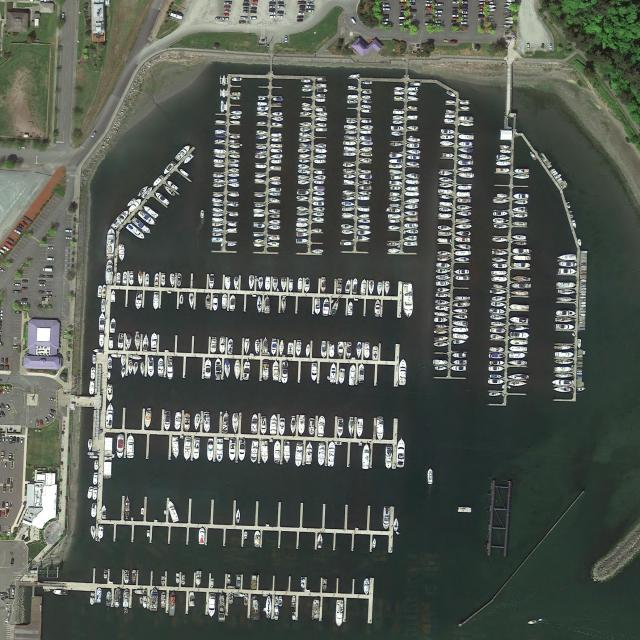large-vehicle: (43, 268, 53, 272)
ship: (110, 209, 131, 231), (125, 223, 147, 243), (131, 217, 153, 236), (549, 167, 567, 190), (402, 282, 413, 319), (137, 210, 158, 228), (174, 143, 192, 162), (166, 500, 180, 523), (106, 228, 116, 260), (396, 437, 406, 468), (141, 204, 159, 219), (538, 151, 553, 169), (154, 191, 171, 206), (335, 599, 344, 627), (398, 358, 407, 386), (361, 443, 370, 470), (218, 592, 226, 622), (375, 416, 385, 440), (105, 403, 114, 429), (327, 441, 336, 467), (149, 588, 159, 611), (105, 260, 114, 285), (128, 198, 143, 213), (162, 161, 177, 176), (251, 595, 260, 620), (208, 593, 217, 618), (126, 434, 135, 459), (183, 436, 192, 461), (382, 506, 391, 530), (116, 434, 125, 458), (250, 439, 259, 463), (103, 456, 112, 480), (330, 298, 341, 317), (168, 591, 176, 617), (305, 442, 314, 465), (221, 410, 230, 433), (228, 438, 237, 461), (166, 356, 174, 381), (295, 442, 303, 467), (260, 439, 268, 464), (216, 437, 224, 462), (317, 415, 326, 437), (273, 440, 281, 464), (318, 442, 326, 466), (385, 444, 393, 468), (172, 435, 180, 459), (311, 598, 320, 619), (281, 361, 289, 384), (283, 440, 291, 463), (238, 438, 246, 461), (141, 185, 154, 199), (162, 184, 176, 197), (214, 358, 222, 380), (203, 411, 211, 433), (124, 495, 131, 520), (104, 437, 113, 456), (151, 175, 164, 188), (135, 290, 143, 311), (243, 359, 251, 380), (204, 358, 212, 379), (356, 417, 364, 438), (207, 438, 214, 462), (193, 437, 200, 460), (298, 415, 306, 435), (183, 412, 191, 432), (349, 364, 356, 386), (265, 596, 272, 618), (348, 416, 355, 438), (232, 412, 239, 434), (322, 297, 330, 316), (308, 418, 316, 437), (262, 360, 269, 381), (147, 356, 154, 377), (234, 359, 241, 380), (272, 360, 279, 381), (337, 417, 344, 438), (270, 414, 277, 435), (510, 316, 528, 324), (183, 153, 195, 165), (193, 413, 201, 431), (166, 180, 179, 191), (551, 379, 571, 386), (145, 409, 152, 429), (251, 414, 258, 434), (164, 411, 171, 431), (86, 485, 95, 500), (151, 332, 158, 351), (99, 312, 106, 331), (311, 362, 318, 381), (118, 243, 125, 262), (260, 416, 267, 435), (175, 412, 182, 431), (114, 589, 121, 608), (138, 184, 149, 196), (507, 360, 528, 366), (510, 339, 528, 346), (509, 304, 530, 310), (511, 276, 532, 282), (374, 299, 381, 317), (314, 297, 321, 315), (134, 333, 141, 351), (219, 336, 226, 354), (356, 341, 363, 359), (264, 296, 271, 314), (195, 570, 202, 588), (279, 418, 286, 436), (358, 363, 365, 381), (510, 332, 530, 338), (510, 325, 530, 331), (512, 283, 532, 289), (556, 282, 576, 288), (555, 317, 575, 323), (262, 336, 268, 356), (224, 359, 230, 379), (153, 292, 159, 312), (250, 575, 258, 590), (457, 172, 474, 179), (117, 333, 124, 350), (345, 342, 352, 359), (337, 341, 344, 358), (363, 578, 370, 595), (198, 528, 205, 545), (290, 417, 297, 434), (508, 374, 527, 380), (510, 290, 529, 296), (555, 352, 574, 358), (556, 324, 575, 330), (558, 261, 577, 267), (558, 268, 577, 274), (557, 310, 576, 316), (107, 383, 113, 402), (158, 357, 164, 376), (123, 589, 129, 608), (360, 279, 367, 295), (88, 380, 95, 396), (125, 334, 132, 350), (229, 294, 236, 310), (248, 275, 255, 291), (126, 197, 136, 208), (219, 75, 229, 86), (509, 381, 527, 387), (509, 346, 527, 352), (513, 255, 531, 261), (445, 90, 457, 99), (554, 366, 572, 372), (143, 334, 149, 352), (339, 367, 345, 385), (321, 340, 327, 358), (364, 341, 370, 359), (368, 280, 375, 295), (264, 276, 271, 291), (372, 345, 379, 360), (287, 341, 294, 356), (220, 100, 228, 113), (488, 366, 505, 372), (509, 353, 526, 359), (512, 248, 529, 254), (458, 134, 475, 140), (491, 276, 508, 282), (489, 308, 506, 314), (554, 387, 571, 393), (320, 276, 326, 293), (493, 198, 510, 204), (559, 289, 576, 295), (453, 333, 470, 339), (296, 340, 302, 357), (272, 339, 278, 356), (244, 338, 250, 355), (211, 337, 217, 354), (317, 532, 323, 549), (254, 530, 260, 547), (281, 297, 287, 314), (189, 591, 195, 608), (427, 468, 433, 485), (555, 359, 575, 364), (554, 345, 574, 350), (557, 255, 577, 260), (331, 363, 336, 383), (528, 151, 537, 162), (129, 354, 143, 361), (489, 353, 505, 359), (492, 237, 508, 243), (512, 213, 528, 219), (352, 278, 358, 294), (304, 277, 310, 293), (557, 296, 573, 302), (458, 160, 474, 166), (452, 327, 468, 333), (452, 321, 468, 327), (453, 269, 469, 275), (455, 237, 471, 243), (456, 211, 472, 217), (281, 276, 287, 292), (272, 276, 278, 292), (110, 317, 116, 333), (255, 339, 261, 355), (188, 293, 194, 309), (213, 295, 219, 311), (209, 274, 215, 290), (329, 342, 335, 358), (91, 502, 97, 518), (96, 588, 102, 604), (555, 373, 574, 378), (492, 263, 507, 269), (492, 289, 507, 295), (384, 281, 390, 296), (377, 281, 383, 296), (337, 279, 343, 294), (297, 277, 303, 292), (457, 153, 472, 159), (457, 185, 472, 191), (436, 262, 451, 268), (436, 268, 451, 274), (435, 299, 450, 305), (435, 305, 450, 311), (434, 317, 449, 323), (99, 333, 105, 348), (101, 284, 107, 299), (90, 525, 96, 540), (257, 295, 262, 313), (161, 591, 166, 609), (101, 504, 107, 519), (457, 507, 472, 513), (219, 88, 228, 98), (121, 271, 127, 286), (170, 273, 176, 288), (106, 591, 112, 606), (488, 379, 505, 384), (514, 263, 531, 268), (454, 251, 471, 256), (455, 244, 472, 249), (455, 231, 472, 236), (455, 224, 472, 229), (279, 340, 284, 357), (491, 334, 505, 340), (345, 279, 351, 293), (288, 279, 294, 293), (497, 154, 511, 160), (405, 179, 419, 185), (404, 241, 418, 247), (456, 192, 470, 198), (438, 213, 452, 219), (438, 225, 452, 231), (434, 359, 448, 365), (90, 366, 96, 380), (233, 276, 239, 290), (205, 293, 211, 307), (225, 276, 231, 290), (98, 525, 104, 539), (134, 589, 148, 595), (92, 486, 98, 500), (176, 273, 182, 287), (358, 185, 372, 191), (357, 235, 371, 241), (131, 570, 137, 584), (490, 328, 506, 333), (458, 116, 474, 121), (493, 211, 509, 216), (493, 218, 509, 223), (490, 315, 506, 320), (492, 250, 508, 255), (492, 257, 508, 262), (491, 296, 507, 301), (512, 207, 528, 212), (513, 174, 529, 179), (457, 205, 473, 210), (222, 293, 227, 309), (179, 169, 189, 177), (440, 201, 453, 207), (315, 148, 328, 154), (342, 212, 355, 218), (512, 221, 527, 226), (491, 321, 506, 326), (459, 122, 474, 127), (494, 224, 509, 229), (491, 302, 506, 307), (511, 235, 526, 240), (458, 148, 473, 153), (348, 301, 353, 316), (513, 194, 528, 199), (514, 168, 529, 173), (404, 198, 419, 203), (404, 223, 419, 228), (439, 183, 454, 188), (438, 189, 453, 194), (453, 314, 468, 319), (453, 302, 468, 307), (454, 295, 469, 300), (455, 276, 470, 281), (454, 257, 469, 262), (456, 218, 471, 223), (457, 167, 472, 172), (437, 238, 452, 243), (436, 275, 451, 280), (436, 281, 451, 286), (451, 366, 466, 371), (434, 336, 449, 341), (140, 361, 145, 376), (133, 361, 138, 376), (228, 339, 233, 354), (129, 271, 134, 286), (236, 508, 241, 523), (236, 574, 241, 589), (53, 590, 68, 595), (490, 347, 504, 352), (490, 360, 504, 365), (489, 392, 503, 397), (496, 161, 510, 166), (405, 191, 419, 196), (404, 205, 418, 210), (404, 211, 418, 216), (405, 217, 419, 222), (405, 229, 419, 234), (403, 236, 417, 241), (441, 129, 455, 134), (440, 141, 454, 146), (439, 171, 453, 176), (406, 162, 420, 167), (406, 155, 420, 160), (389, 153, 403, 158), (406, 143, 420, 148), (439, 207, 453, 212), (457, 198, 471, 203), (453, 340, 467, 345), (453, 360, 467, 365), (438, 231, 452, 236), (435, 324, 449, 329), (434, 342, 448, 347), (128, 361, 133, 375), (306, 344, 311, 358), (258, 276, 263, 290), (154, 273, 159, 287), (145, 273, 150, 287), (138, 271, 143, 285), (274, 606, 279, 620), (394, 518, 399, 532), (93, 472, 98, 486), (101, 299, 106, 313), (343, 141, 357, 146), (342, 196, 356, 201), (359, 174, 373, 179), (340, 241, 354, 246), (124, 570, 129, 584), (90, 592, 95, 606), (103, 568, 109, 579), (515, 200, 528, 205), (406, 186, 419, 191), (388, 248, 401, 253), (440, 177, 453, 182), (389, 180, 402, 185), (389, 169, 402, 174), (389, 164, 402, 169), (390, 142, 403, 147), (391, 126, 404, 131), (453, 353, 466, 358), (437, 288, 450, 293), (437, 257, 450, 262), (435, 366, 448, 371), (108, 356, 113, 369), (121, 354, 126, 367), (108, 337, 113, 350), (111, 290, 116, 303), (161, 273, 166, 286), (142, 596, 147, 609), (389, 197, 402, 202), (97, 285, 102, 298), (315, 127, 328, 132), (343, 152, 356, 157), (345, 124, 358, 129), (345, 130, 358, 135), (344, 136, 357, 141), (344, 146, 357, 151), (360, 141, 373, 146), (299, 138, 312, 143), (298, 164, 311, 169), (314, 159, 327, 164), (298, 148, 311, 153), (227, 173, 240, 178), (388, 214, 401, 219), (343, 168, 356, 173), (359, 169, 372, 174), (343, 190, 356, 195), (342, 207, 355, 212), (358, 219, 371, 224), (341, 224, 354, 229), (298, 169, 311, 174), (271, 117, 284, 122), (296, 238, 309, 243), (311, 212, 324, 217), (313, 196, 326, 201), (296, 195, 309, 200), (267, 236, 280, 241), (270, 148, 283, 153), (491, 271, 507, 275), (497, 193, 509, 198), (458, 142, 473, 146), (389, 225, 401, 230), (440, 135, 455, 139), (442, 153, 454, 158), (393, 110, 405, 115), (406, 150, 421, 154), (408, 96, 420, 101), (453, 309, 468, 313), (434, 312, 449, 316), (434, 330, 449, 334), (322, 579, 327, 591), (215, 134, 227, 139), (389, 208, 401, 213), (361, 125, 373, 130), (313, 170, 325, 175), (314, 154, 326, 159), (300, 143, 312, 148), (314, 143, 326, 148), (315, 117, 327, 122), (300, 111, 312, 116), (179, 293, 184, 305), (214, 154, 226, 159), (215, 129, 227, 134), (344, 174, 356, 179), (343, 180, 355, 185), (358, 196, 370, 201), (358, 207, 370, 212), (342, 230, 354, 235), (314, 175, 326, 180), (212, 237, 224, 242), (212, 198, 224, 203), (257, 106, 269, 111), (212, 222, 224, 227), (212, 217, 224, 222), (527, 619, 537, 625), (272, 122, 284, 127), (256, 135, 268, 140), (312, 217, 324, 222), (297, 222, 309, 227), (297, 217, 309, 222), (297, 206, 309, 211), (313, 191, 325, 196), (298, 180, 310, 185), (268, 225, 280, 230), (256, 145, 268, 150), (255, 154, 267, 159), (271, 154, 283, 159), (255, 164, 267, 169), (255, 178, 267, 183), (254, 223, 266, 228), (254, 193, 266, 198), (513, 241, 527, 245), (496, 168, 510, 172), (406, 174, 420, 178), (406, 138, 420, 142), (438, 251, 452, 255), (358, 231, 372, 235), (359, 180, 373, 184), (358, 191, 372, 195), (341, 202, 355, 206), (393, 115, 404, 120), (407, 105, 418, 110), (407, 115, 418, 120), (111, 354, 122, 359), (291, 596, 296, 607), (175, 573, 180, 584), (161, 576, 166, 587), (94, 460, 99, 471), (316, 77, 327, 82), (389, 219, 400, 224), (445, 109, 456, 114), (410, 82, 421, 87), (349, 74, 360, 79), (347, 100, 358, 105), (360, 130, 371, 135), (360, 136, 371, 141), (300, 127, 311, 132), (229, 144, 240, 149), (231, 110, 242, 115), (254, 243, 265, 248), (313, 201, 324, 206), (314, 186, 325, 191), (255, 203, 266, 208), (254, 208, 265, 213), (490, 374, 503, 378), (440, 195, 453, 199), (389, 159, 402, 163), (391, 132, 404, 136), (435, 293, 448, 297), (88, 439, 92, 452), (116, 272, 120, 285), (360, 147, 373, 151), (360, 153, 373, 157), (359, 158, 372, 162), (214, 149, 227, 153), (343, 163, 356, 167), (267, 242, 280, 246), (268, 192, 281, 196), (268, 220, 281, 224), (577, 339, 582, 349), (572, 219, 577, 229), (278, 596, 283, 606), (372, 538, 377, 548), (181, 575, 186, 585), (210, 578, 215, 588), (347, 119, 357, 124), (232, 77, 242, 82), (314, 180, 324, 185), (213, 227, 223, 232), (500, 149, 512, 153), (577, 239, 583, 247), (389, 243, 401, 247), (121, 367, 125, 379), (301, 577, 305, 589), (244, 594, 248, 606), (87, 452, 99, 456), (389, 203, 401, 207), (554, 173, 562, 179), (565, 202, 571, 210), (347, 95, 359, 99), (299, 154, 311, 158), (300, 132, 312, 136), (299, 122, 311, 126), (315, 123, 327, 127), (213, 174, 225, 178), (228, 159, 240, 163), (358, 214, 370, 218), (358, 225, 370, 229), (298, 175, 310, 179), (227, 203, 239, 207), (213, 184, 225, 188), (256, 130, 268, 134), (311, 249, 323, 253), (297, 233, 309, 237), (296, 228, 308, 232), (297, 212, 309, 216), (313, 207, 325, 211), (297, 191, 309, 195), (255, 174, 267, 178), (270, 181, 282, 185), (268, 198, 280, 202), (268, 209, 280, 213), (577, 387, 586, 392), (569, 210, 574, 219), (334, 441, 343, 446), (445, 100, 456, 104), (493, 284, 504, 288), (444, 119, 455, 123), (393, 120, 404, 124), (394, 91, 405, 95), (394, 96, 405, 100), (394, 87, 405, 91), (408, 87, 419, 91), (407, 126, 418, 130), (92, 354, 96, 365), (234, 593, 245, 597), (229, 593, 233, 604), (316, 84, 327, 88), (362, 81, 373, 85), (361, 109, 372, 113), (317, 89, 328, 93), (299, 159, 310, 163), (316, 112, 327, 116), (302, 107, 313, 111), (315, 108, 326, 112), (315, 98, 326, 102), (214, 164, 225, 168), (228, 168, 239, 172), (229, 154, 240, 158), (215, 139, 226, 143), (229, 135, 240, 139), (215, 120, 226, 124), (230, 116, 241, 120), (213, 208, 224, 212), (213, 203, 224, 207), (213, 193, 224, 197), (228, 193, 239, 197), (214, 179, 225, 183), (228, 183, 239, 187), (257, 111, 268, 115), (271, 112, 282, 116), (257, 121, 268, 125), (212, 232, 223, 236), (213, 213, 224, 217), (311, 229, 322, 233), (271, 160, 282, 164), (270, 166, 281, 170), (254, 213, 265, 217), (269, 215, 280, 219), (562, 180, 569, 186), (459, 106, 469, 110), (500, 145, 510, 149), (93, 349, 103, 353), (275, 596, 279, 606), (390, 192, 400, 196), (227, 574, 231, 584), (229, 139, 239, 143), (486, 8, 496, 12), (505, 6, 515, 10), (301, 79, 311, 83), (362, 100, 372, 104), (361, 119, 371, 123), (214, 159, 224, 163), (230, 96, 240, 100), (227, 228, 237, 232), (229, 213, 239, 217), (257, 102, 267, 106), (271, 133, 281, 137), (255, 239, 265, 243), (271, 138, 281, 142), (270, 144, 283, 147), (269, 188, 282, 191), (460, 101, 469, 105), (408, 92, 417, 96), (107, 371, 111, 380), (200, 209, 204, 218), (292, 612, 296, 621), (139, 596, 143, 605), (257, 97, 266, 101), (505, 2, 514, 6), (506, 16, 515, 20), (504, 24, 513, 28), (303, 84, 312, 88), (302, 103, 311, 107), (232, 92, 241, 96), (228, 243, 237, 247), (269, 177, 281, 180), (550, 170, 557, 175), (556, 178, 563, 183), (445, 115, 456, 118), (229, 150, 240, 153), (229, 121, 240, 124), (254, 234, 265, 237), (244, 531, 248, 539), (89, 456, 99, 459), (326, 375, 331, 381), (550, 168, 556, 173), (552, 172, 558, 177), (505, 21, 515, 24), (362, 91, 372, 94), (361, 96, 371, 99), (361, 105, 371, 108), (302, 89, 312, 92), (273, 98, 283, 101), (579, 301, 586, 305), (124, 607, 128, 614), (147, 530, 150, 539), (141, 507, 144, 516), (487, 5, 496, 8), (348, 86, 357, 89), (316, 94, 325, 97), (228, 223, 237, 226), (229, 179, 238, 182), (395, 531, 400, 536), (537, 618, 543, 622), (227, 586, 235, 589), (581, 381, 585, 387), (576, 370, 583, 373), (223, 437, 230, 440), (580, 285, 587, 288), (580, 279, 587, 282), (580, 265, 587, 268), (44, 589, 51, 592), (582, 350, 586, 355), (571, 333, 576, 337), (163, 510, 167, 515), (97, 538, 101, 543), (507, 385, 512, 389), (577, 367, 583, 370), (577, 359, 583, 362), (580, 327, 586, 330), (580, 313, 586, 316), (580, 310, 586, 313), (580, 305, 586, 308), (580, 296, 586, 299), (580, 293, 586, 296), (581, 290, 587, 293), (112, 453, 115, 459), (581, 282, 587, 285), (581, 250, 587, 253), (409, 135, 413, 139), (526, 375, 529, 380), (578, 375, 583, 378), (578, 364, 583, 367), (574, 262, 577, 267), (403, 230, 406, 235), (580, 274, 587, 276), (580, 271, 587, 273), (577, 373, 583, 375), (577, 357, 583, 359), (577, 355, 583, 357), (581, 288, 587, 290), (131, 517, 134, 521), (488, 2, 494, 4)
small-vehicle: (350, 16, 357, 25), (7, 237, 15, 244), (23, 216, 31, 223), (4, 242, 12, 248), (14, 229, 22, 235), (16, 225, 23, 231), (48, 413, 55, 419), (5, 404, 11, 411), (3, 246, 10, 252), (21, 220, 27, 227), (91, 132, 97, 139), (49, 409, 57, 414), (12, 290, 22, 294), (3, 484, 7, 494), (297, 1, 306, 5), (0, 411, 6, 417), (0, 403, 6, 409), (18, 223, 24, 229), (240, 16, 249, 20), (2, 388, 7, 395), (10, 558, 15, 565), (44, 417, 49, 424), (306, 9, 314, 13), (238, 20, 246, 24), (408, 2, 416, 6), (409, 9, 417, 13), (224, 1, 232, 5), (38, 280, 46, 284), (1, 451, 5, 459), (8, 453, 12, 461), (9, 436, 13, 444), (49, 398, 57, 402), (450, 40, 458, 44), (434, 3, 444, 6), (6, 389, 11, 395), (21, 534, 26, 540), (297, 15, 304, 19), (269, 15, 276, 19), (382, 21, 389, 25), (15, 310, 22, 314), (14, 283, 21, 287), (38, 290, 45, 294), (2, 501, 6, 508), (40, 420, 44, 427), (461, 7, 468, 11), (462, 24, 469, 28), (46, 291, 53, 295), (65, 236, 72, 240), (299, 8, 305, 12), (268, 12, 276, 15), (399, 2, 407, 5), (398, 23, 406, 26), (452, 14, 460, 17), (425, 7, 433, 10), (398, 16, 406, 19), (383, 8, 391, 11), (0, 358, 4, 364), (47, 275, 53, 279), (35, 420, 39, 426), (425, 23, 433, 26), (452, 21, 458, 25), (65, 229, 73, 232), (268, 5, 275, 8), (243, 3, 250, 6), (243, 7, 250, 10), (243, 10, 250, 13), (251, 7, 258, 10), (251, 0, 258, 3), (269, 2, 276, 5), (269, 9, 276, 12), (277, 1, 284, 4), (299, 5, 306, 8), (298, 12, 305, 15), (307, 6, 314, 9), (307, 3, 314, 6), (277, 15, 284, 18), (461, 21, 468, 24), (400, 9, 407, 12), (400, 20, 407, 23), (382, 18, 389, 21), (382, 15, 389, 18), (452, 1, 459, 4), (461, 11, 468, 14), (224, 6, 231, 9), (435, 14, 442, 17), (382, 4, 389, 7), (251, 4, 258, 7), (13, 436, 16, 443), (21, 287, 28, 290), (21, 298, 28, 301), (4, 462, 7, 469), (250, 17, 257, 20), (222, 17, 229, 20), (8, 527, 11, 534), (6, 502, 9, 509), (6, 435, 9, 442), (20, 437, 23, 444), (409, 23, 416, 26), (426, 14, 433, 17), (435, 20, 442, 23), (479, 2, 486, 5), (527, 43, 530, 50), (542, 43, 545, 50), (478, 15, 485, 18), (478, 11, 485, 14), (478, 8, 485, 11), (478, 5, 485, 8), (461, 1, 468, 4), (461, 14, 468, 17), (461, 18, 468, 21), (453, 17, 460, 20), (452, 7, 459, 10), (39, 275, 46, 278), (38, 284, 45, 287), (47, 258, 54, 261), (251, 10, 257, 13), (278, 11, 284, 14), (297, 19, 303, 22), (285, 36, 288, 42), (243, 0, 249, 3), (223, 13, 229, 16), (17, 437, 20, 443), (5, 358, 8, 364), (22, 280, 28, 283), (46, 295, 52, 298), (7, 478, 10, 484), (225, 10, 231, 13), (215, 17, 221, 20), (2, 510, 5, 516), (2, 436, 5, 442), (549, 44, 552, 50), (462, 4, 468, 7), (435, 24, 441, 27), (21, 302, 27, 305), (62, 12, 65, 18), (48, 247, 54, 250), (435, 11, 443, 13), (425, 4, 433, 6), (278, 6, 284, 8), (453, 11, 459, 13)
